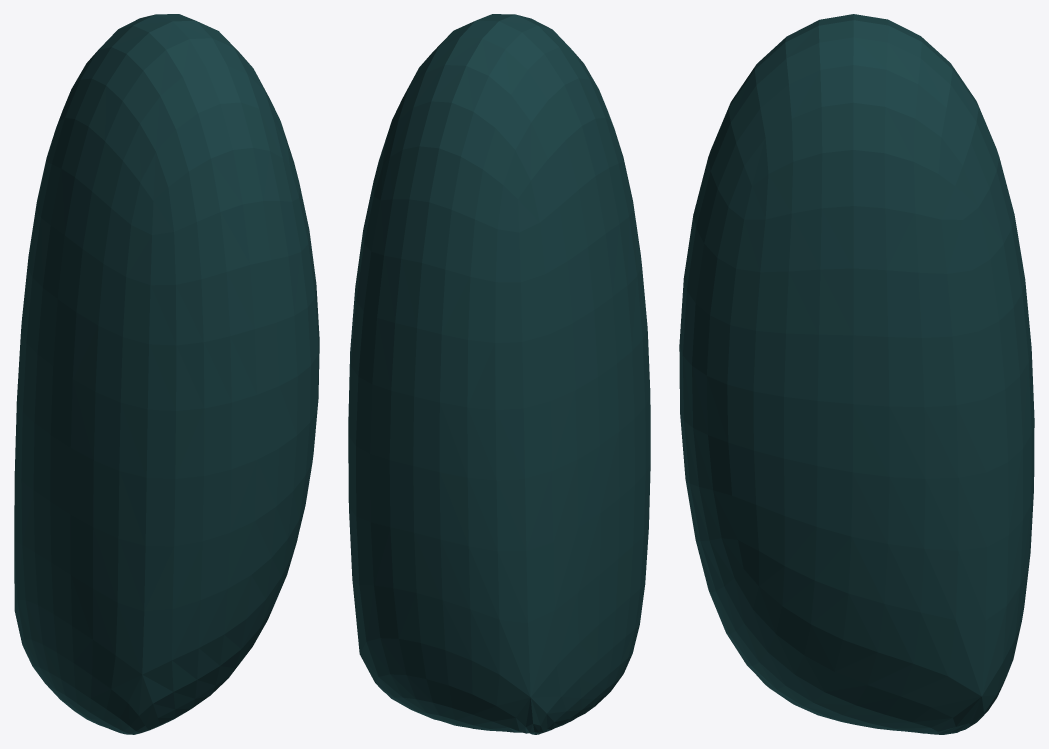
3 views of the same model, side by side, from view 1: azimuth 30°, elevation 25°; view 2: azimuth 150°, elevation 25°; view 3: azimuth 270°, elevation 25° (orthographic). The views are drawn at different scales.
Visible parts, largest first — view 1: 116_Cube.482; view 2: 116_Cube.482; view 3: 116_Cube.482.
Boxes of the visible parts, left/top/right/bottom form: 116_Cube.482: left=14, top=14, right=319, bottom=734; 116_Cube.482: left=348, top=14, right=650, bottom=734; 116_Cube.482: left=679, top=14, right=1034, bottom=734.
Size of the model in its own units: 4.11 by 11.23 by 5.09.
